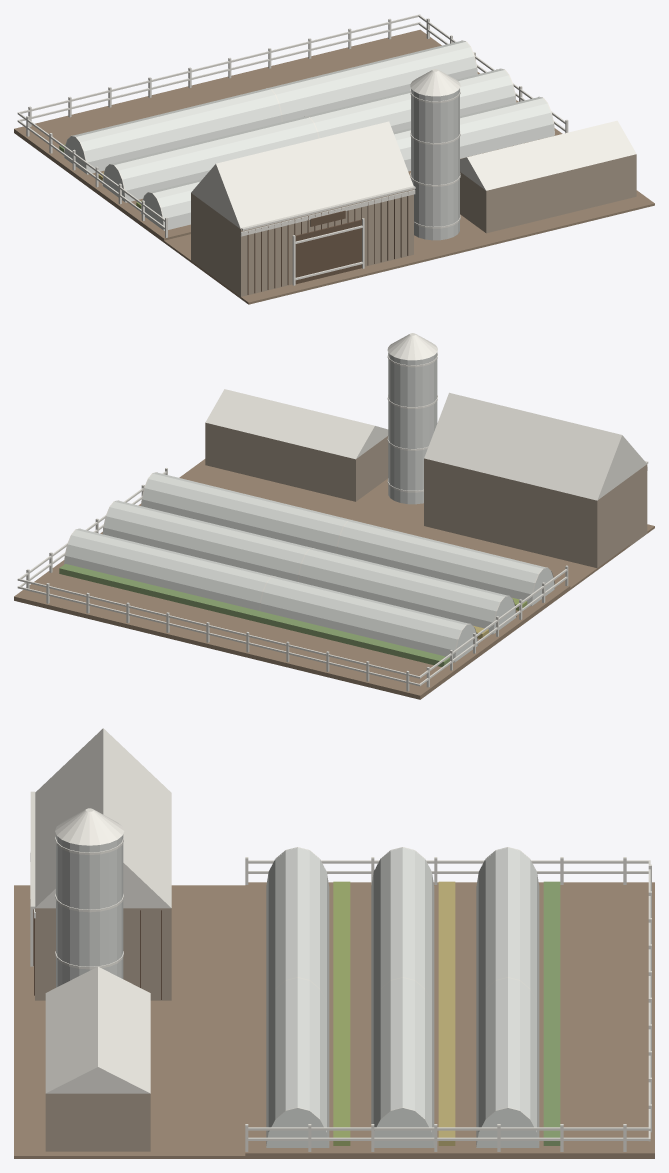
Rendered from farm_4x4_b.glb.
The picture shows the model from 3 angles, top to bottom: view 1: azimuth 30°, elevation 25°; view 2: azimuth 150°, elevation 25°; view 3: azimuth 270°, elevation 25°; orthographic projection. The views are drawn at different scales.
Parts seen in each view (by area): view 1: farm_4x4_b_yard; view 2: farm_4x4_b_yard; view 3: farm_4x4_b_yard.
Part boxes in pixels (x1,y1,x2,y2): farm_4x4_b_yard: [14, 14, 654, 304]; farm_4x4_b_yard: [14, 333, 654, 699]; farm_4x4_b_yard: [14, 728, 654, 1158].
Size of the model in its own units: 30.5 by 11.6 by 30.5.
